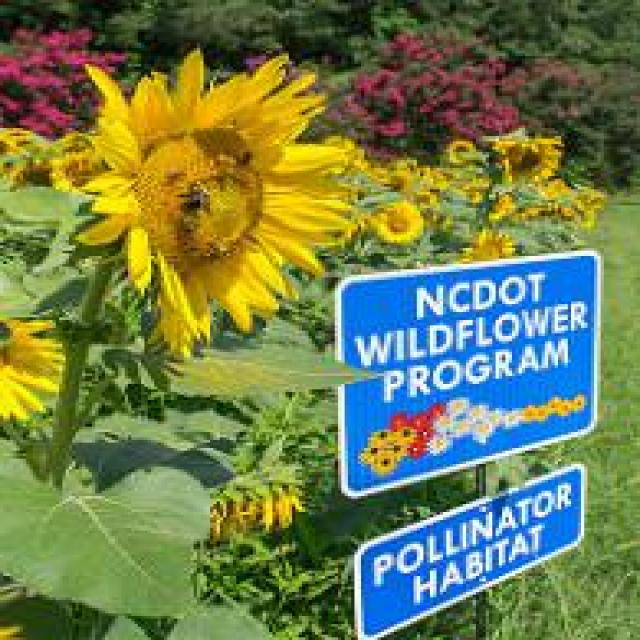sunflower: (76, 48, 356, 355), (0, 318, 66, 420), (212, 479, 294, 534), (505, 136, 563, 180), (464, 225, 513, 263), (378, 204, 423, 241), (445, 142, 475, 167)
